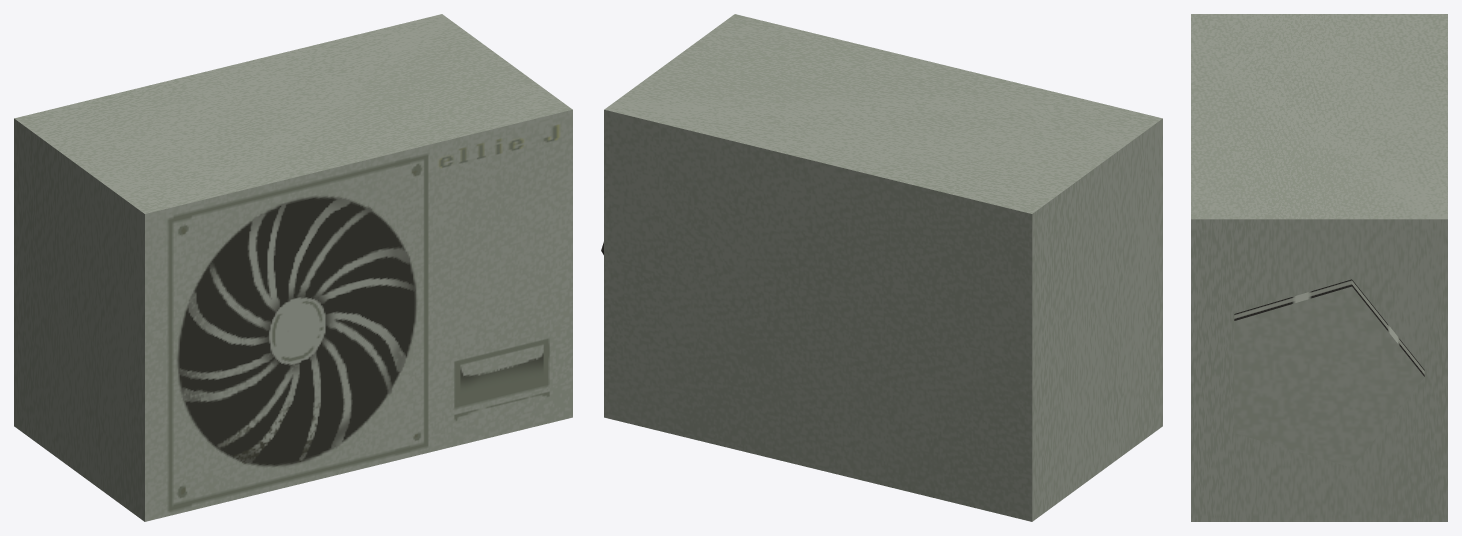
Rendered from AcDiff.fbx.
3 views of the same model, side by side, from view 1: azimuth 30°, elevation 25°; view 2: azimuth 150°, elevation 25°; view 3: azimuth 270°, elevation 25° (orthographic).
Visible parts, largest first — view 1: SlideObs2 (A.C 2).001; view 2: SlideObs2 (A.C 2).001; view 3: SlideObs2 (A.C 2).001.
Part boxes in pixels (x1,y1,x2,y2): SlideObs2 (A.C 2).001: [14, 14, 572, 521]; SlideObs2 (A.C 2).001: [601, 14, 1162, 521]; SlideObs2 (A.C 2).001: [1191, 14, 1447, 521].
Size of the model in its own units: 99.95 by 66.38 by 51.08.
